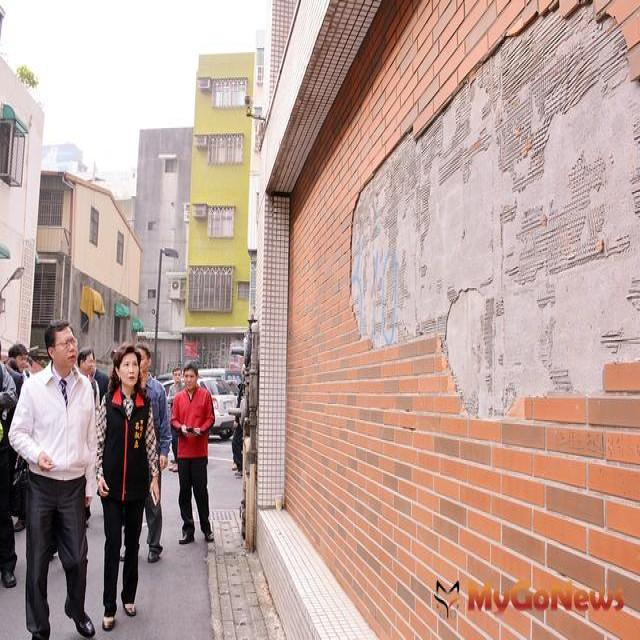Crack: (349, 0, 639, 417)
